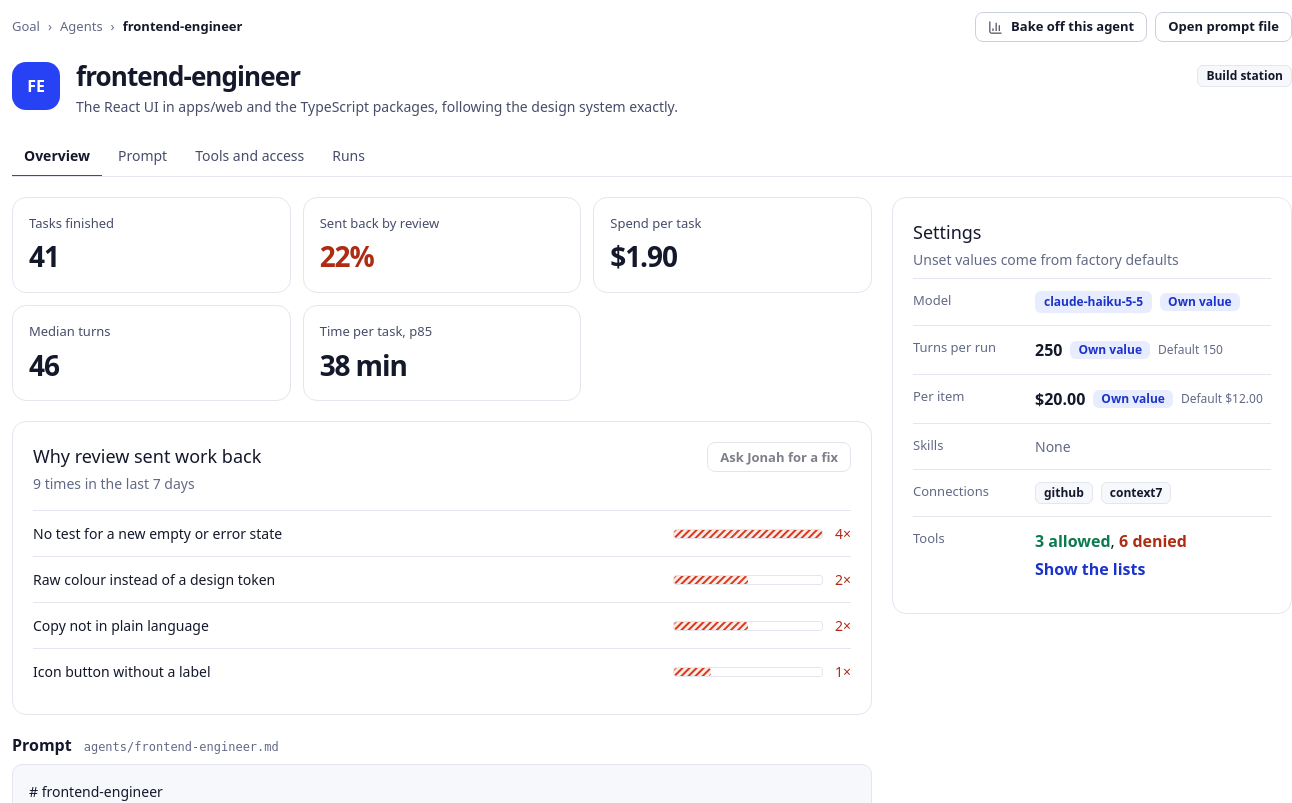
Test: Bake off this agent › shows a 409 learning-budget refusal with its estimate, and says nothing started
Expected: the heading "frontend-engineer" is shown, [76,58,300,94]
Click the button "Bake off this agent" at [1061, 27], box [975,12,1147,42]
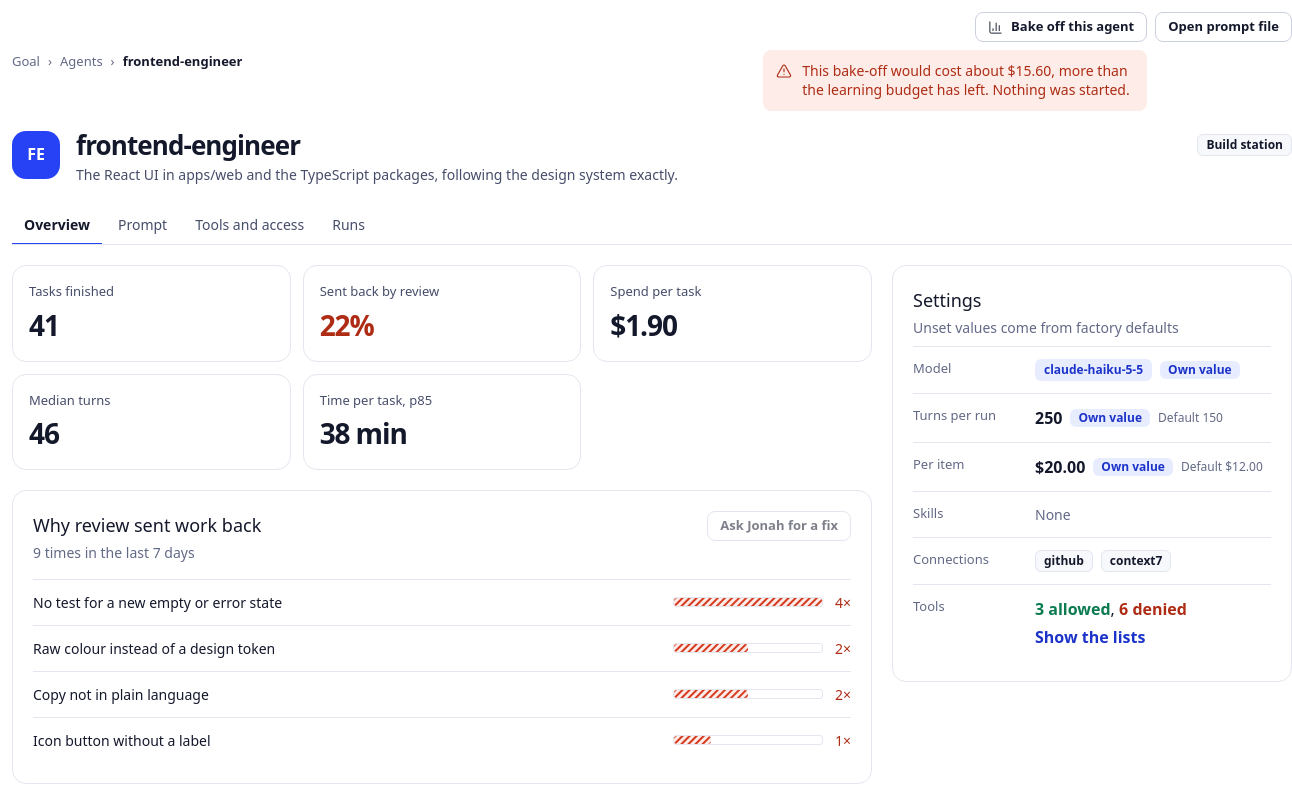
Expected: the text "Nothing was started" is shown, [802,61,1130,99]
